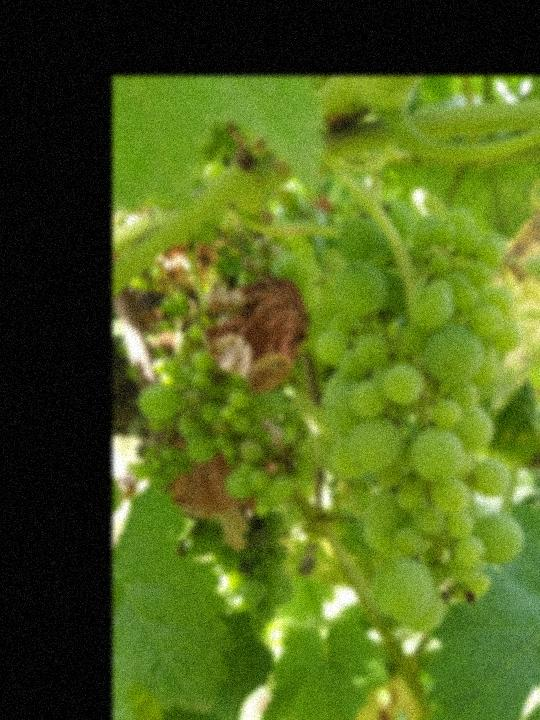grape: (312, 198, 526, 638)
